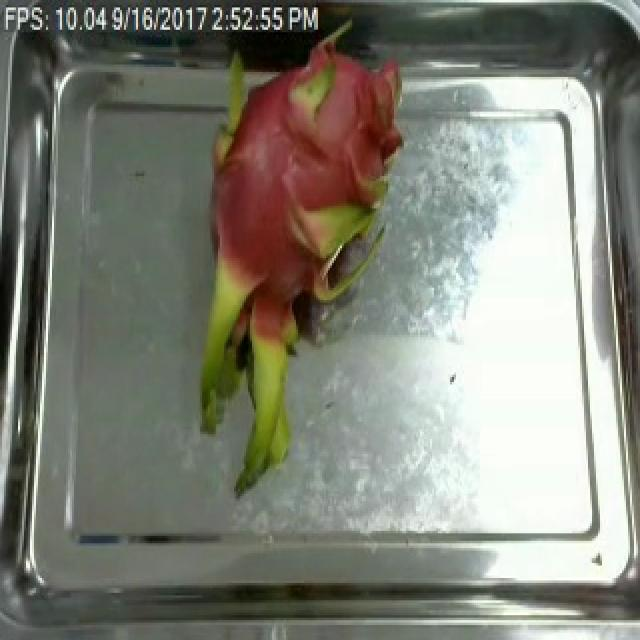fruit: (168, 15, 424, 466)
